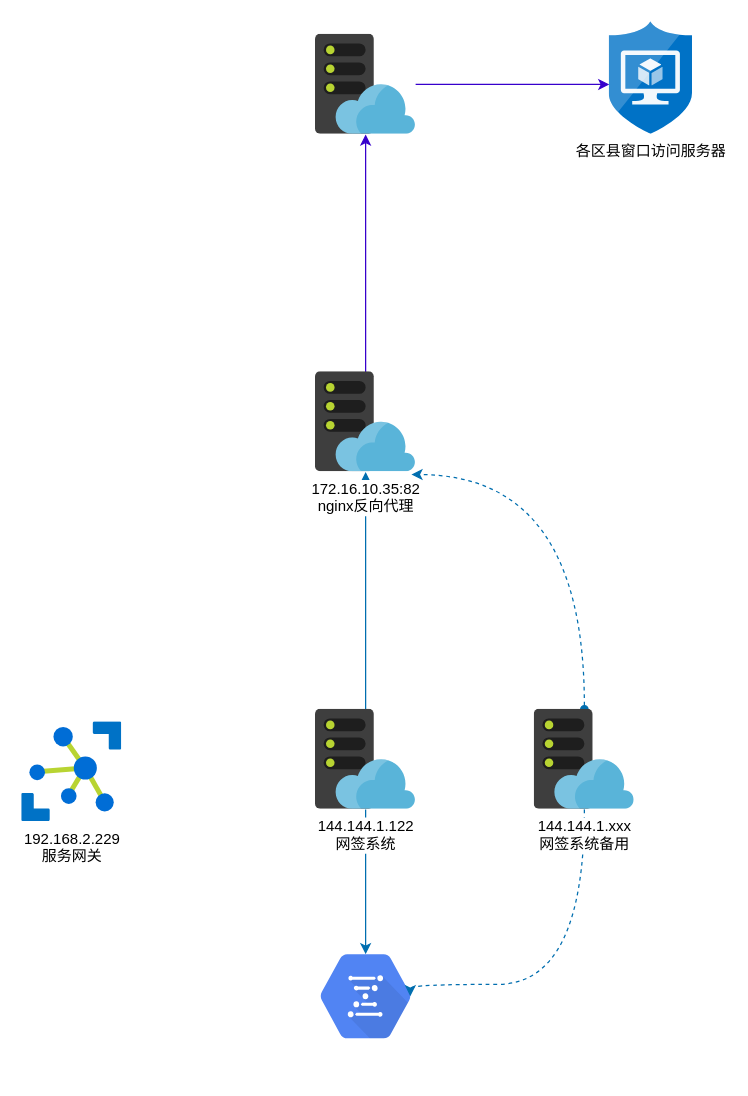
Some shapes in this 748 by 1096 pixel diagram are drawn without their labels. The centre of each missing label's shape, as x and y in pixels:
各区县前置机 Nginx反向代理: [365,84]
网签数据库: [365,996]
